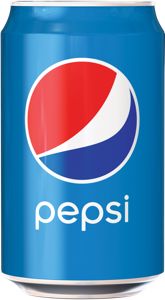pepsi: (27, 56, 137, 179)
